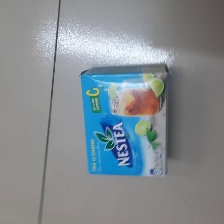Nestea: (79, 64, 171, 177)
